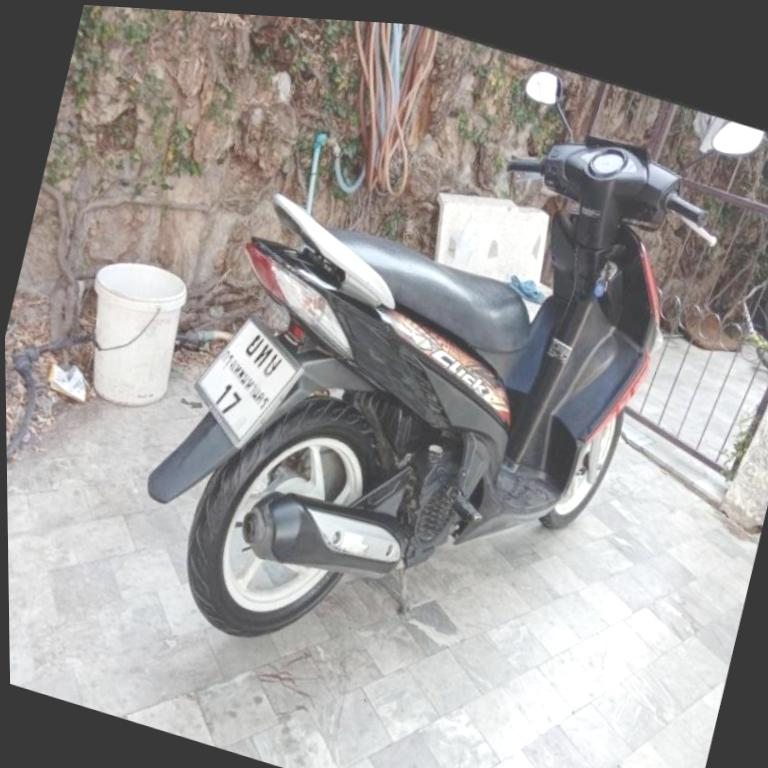license plate: (197, 319, 299, 443)
